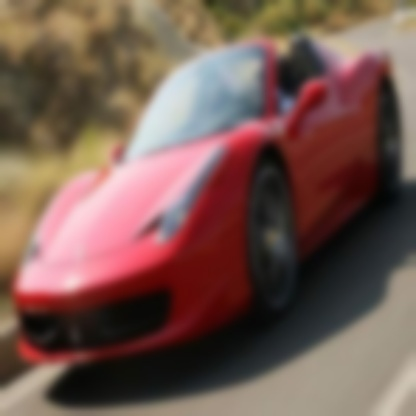Vehicle: (15, 33, 404, 367)
